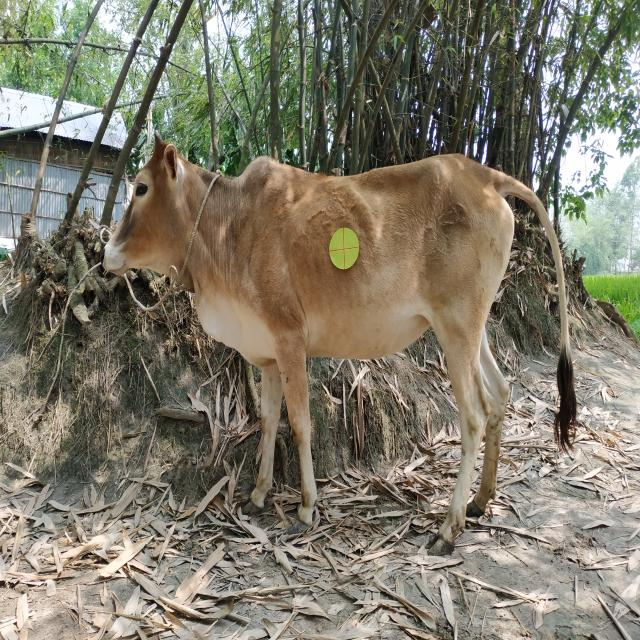badan_sapi: (235, 168, 513, 358)
sapi: (91, 111, 578, 554)
